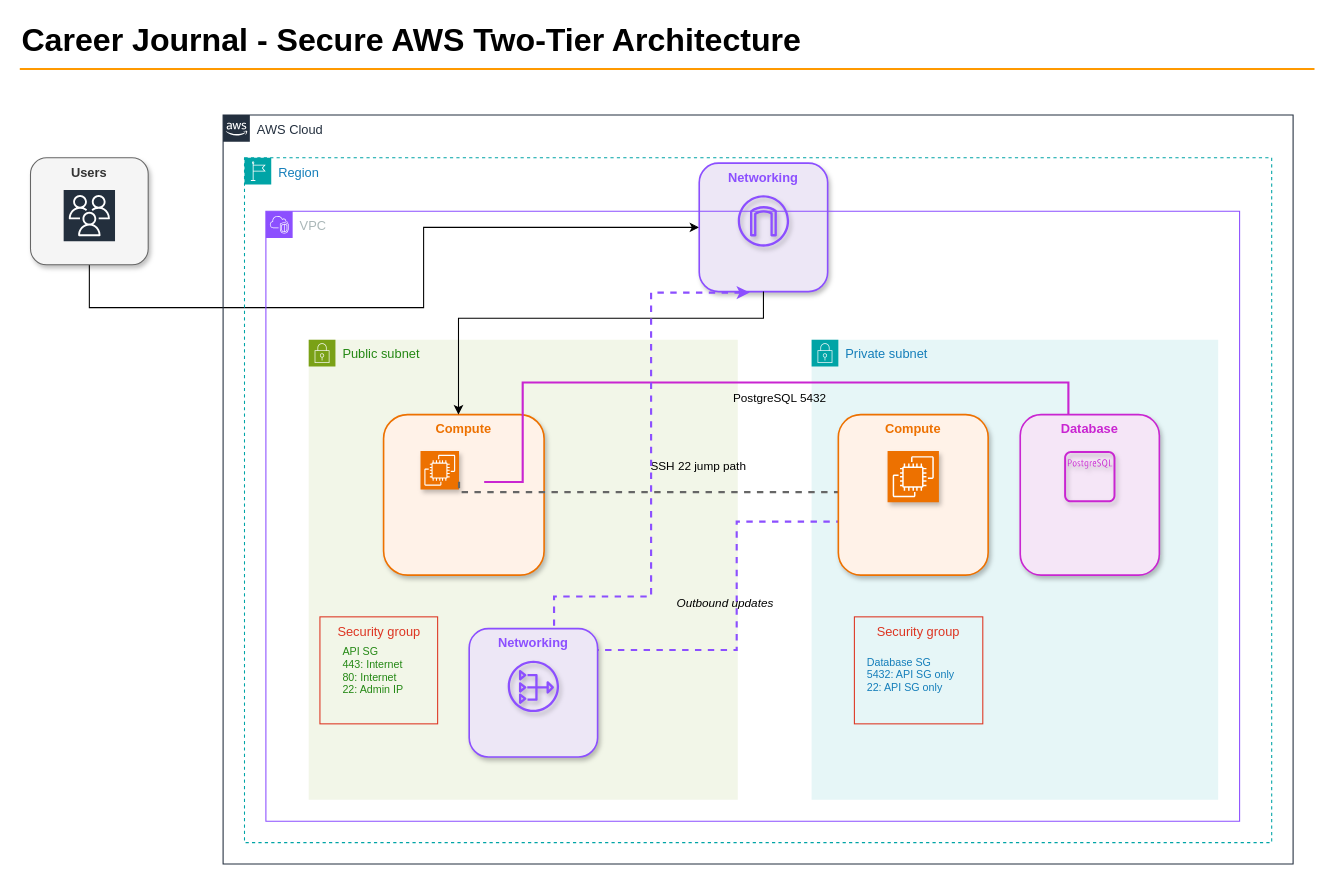
This 1343x883 diagram has some shape labels left out. Each missing label, with the centre of its shape:
API EC2 Nginx + Uvicorn: (440,471)
Database EC2 no public IP: (913,478)
Internet Gateway: (764,222)
NAT Gateway outbound only: (534,687)
PostgreSQL career_journal: (1090,477)
